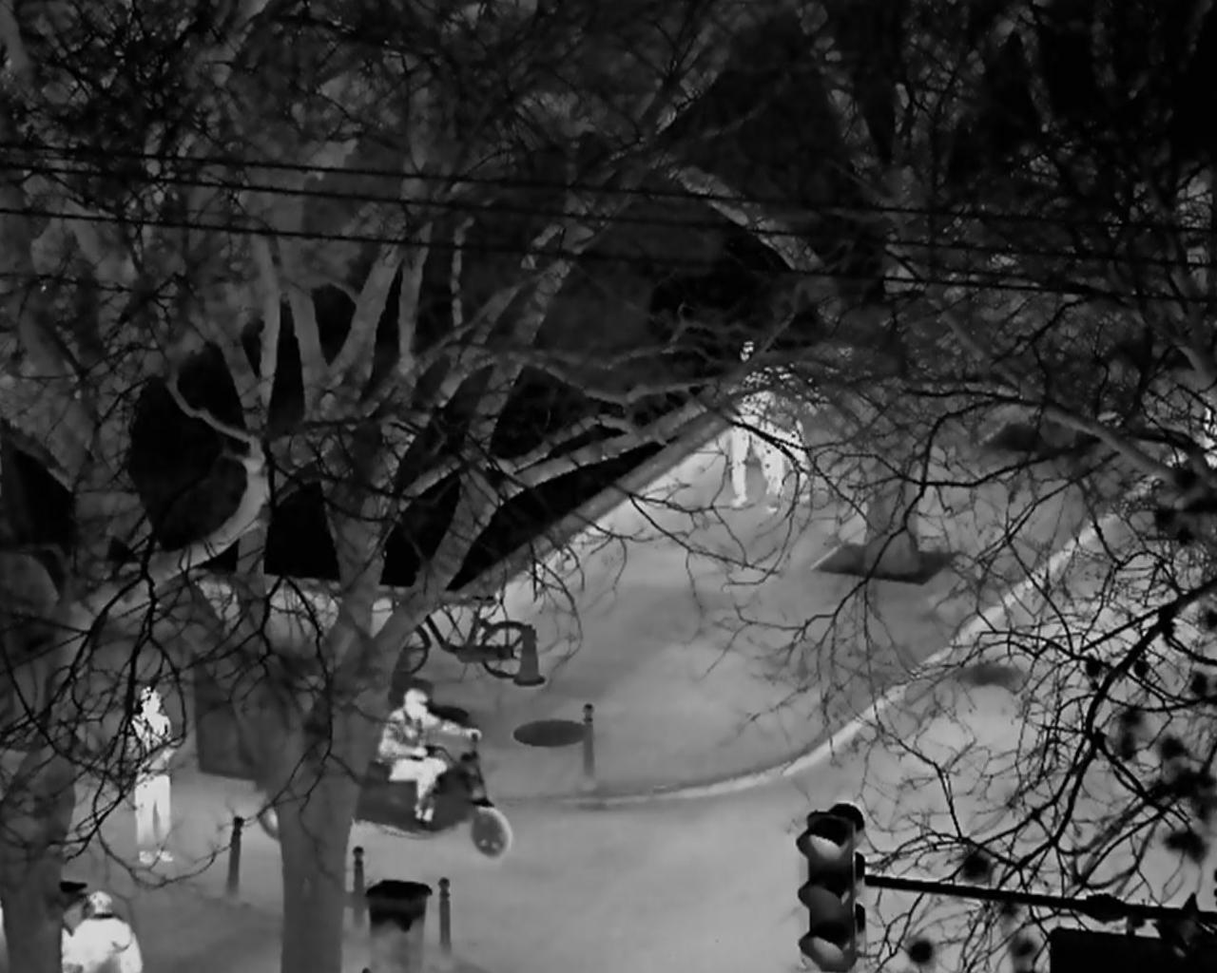person: (377, 689, 483, 825), (127, 686, 179, 866), (728, 409, 782, 506)
